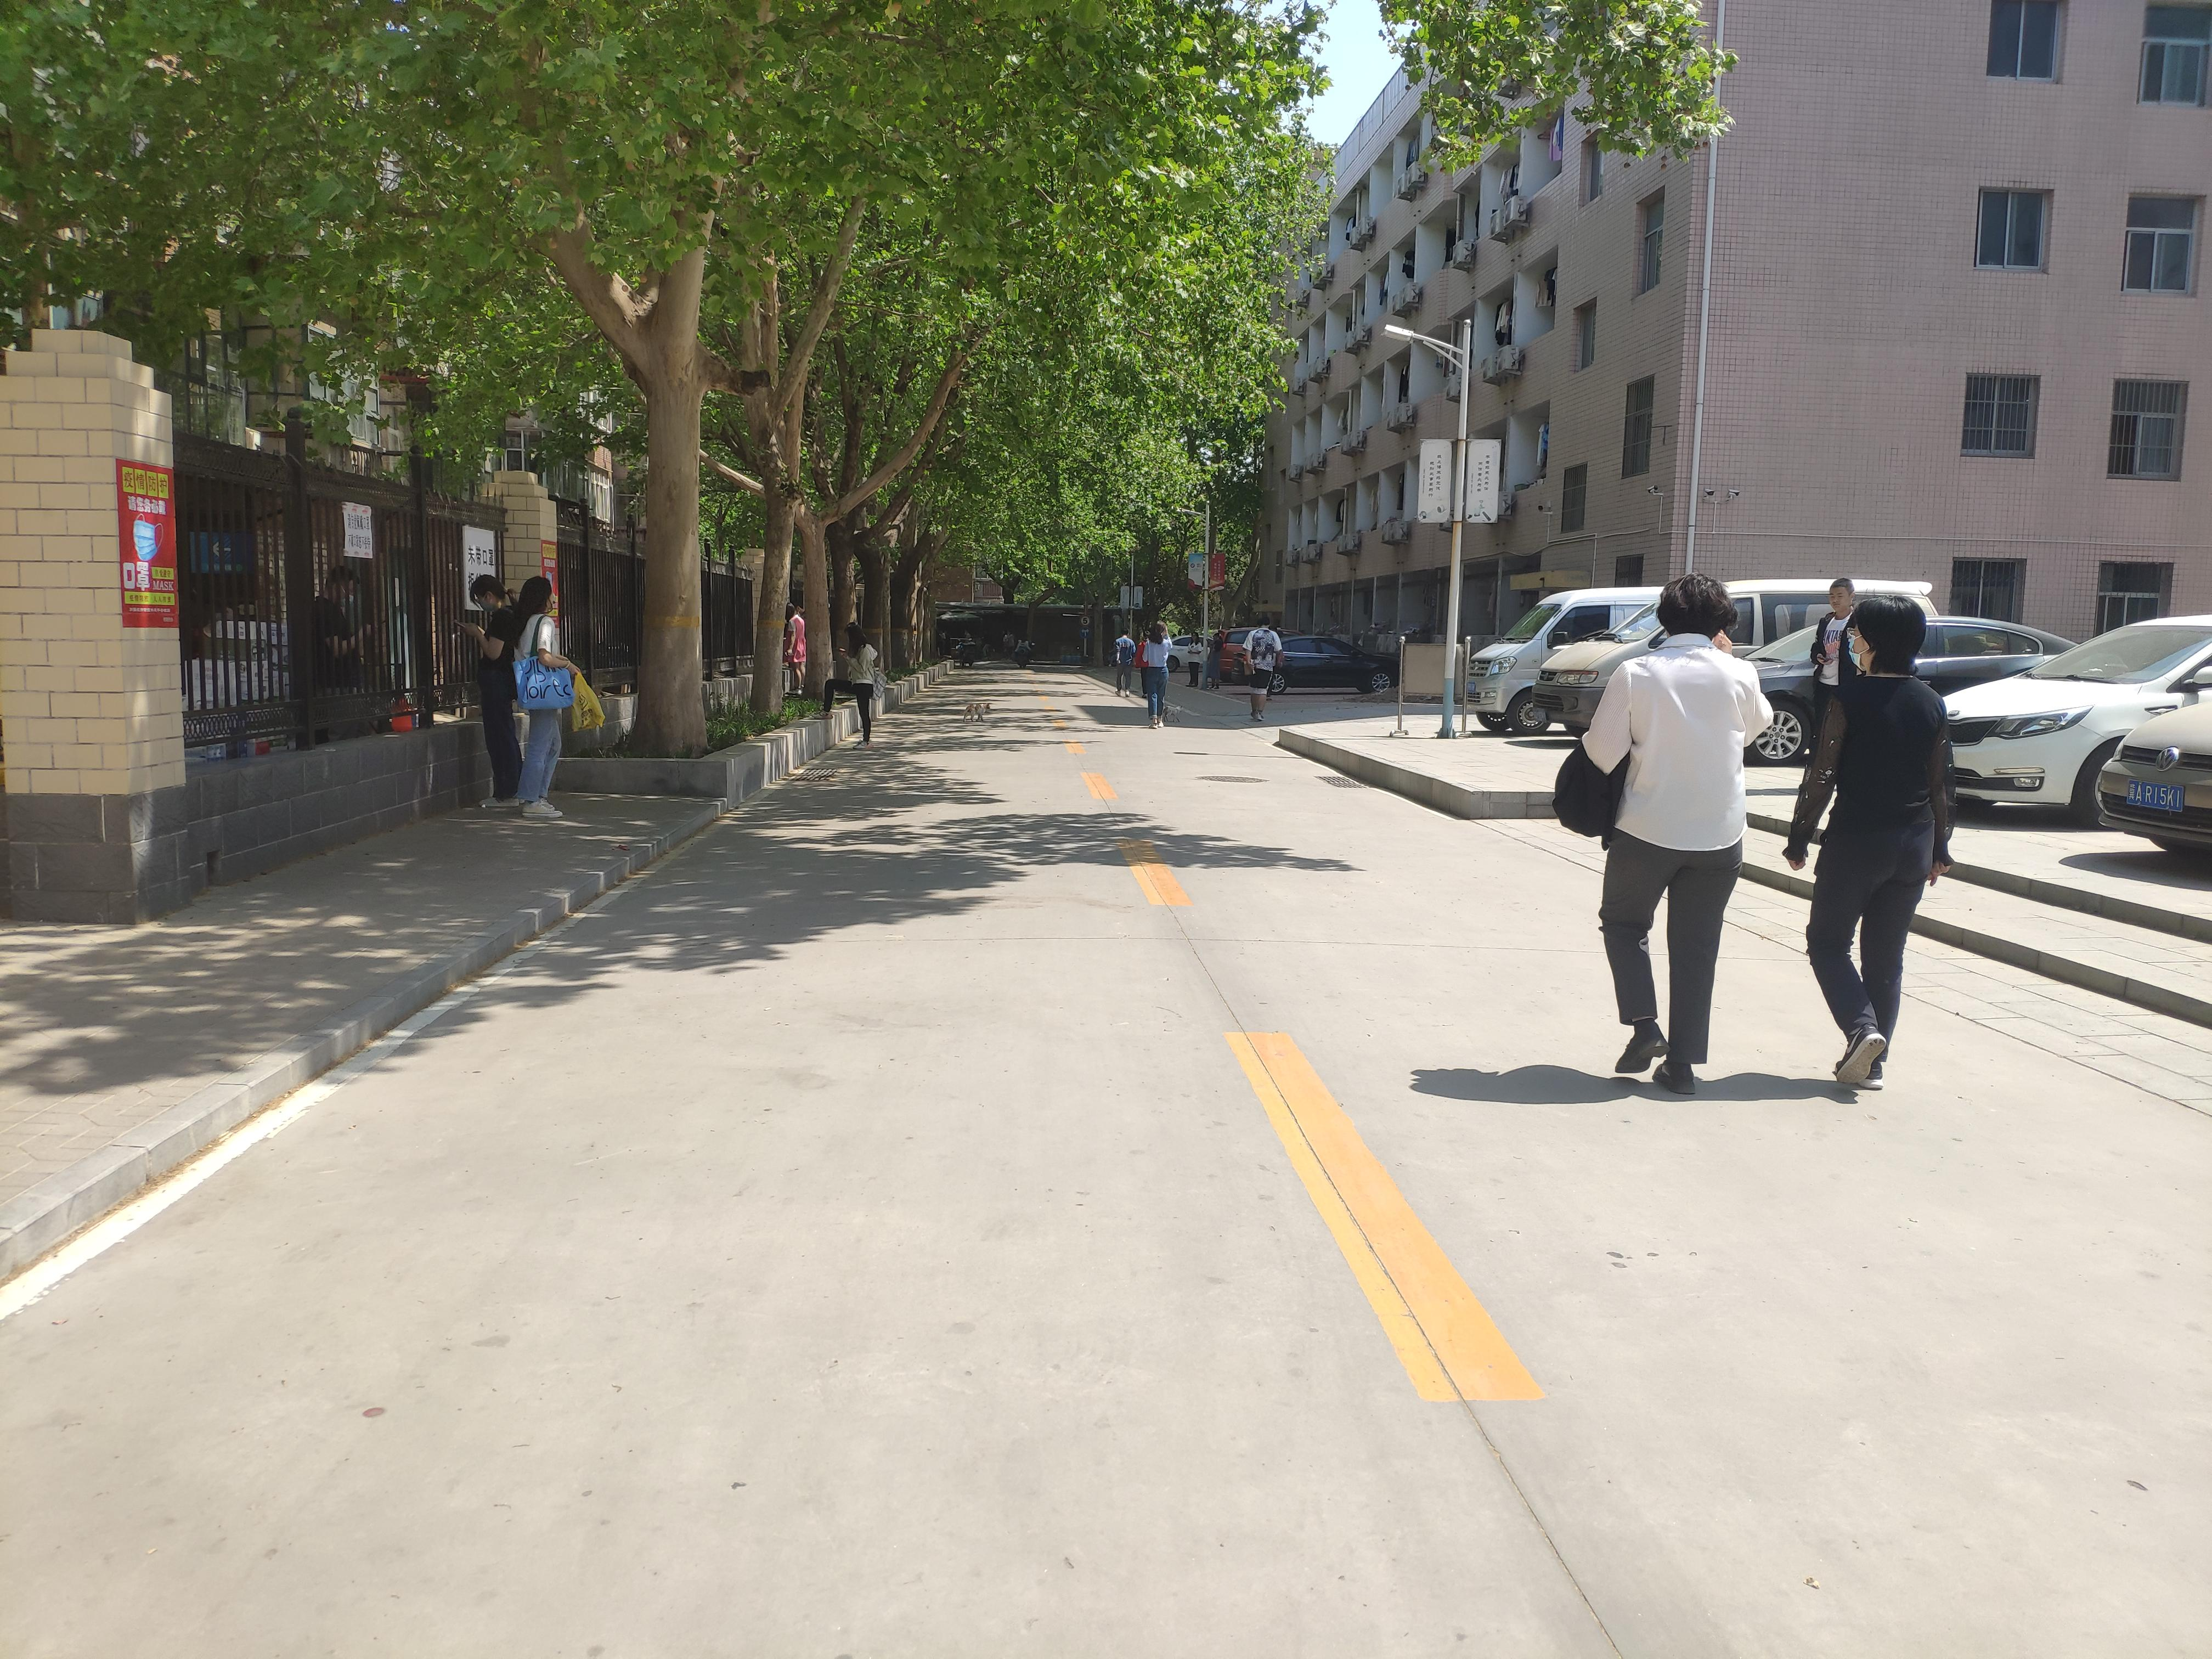car1: (1998, 615, 2197, 830)
person1: (1595, 589, 1776, 1104)
person2: (1792, 586, 1967, 1104)
person3: (501, 573, 564, 814)
person4: (1146, 628, 1175, 725)
person5: (830, 620, 890, 741)
